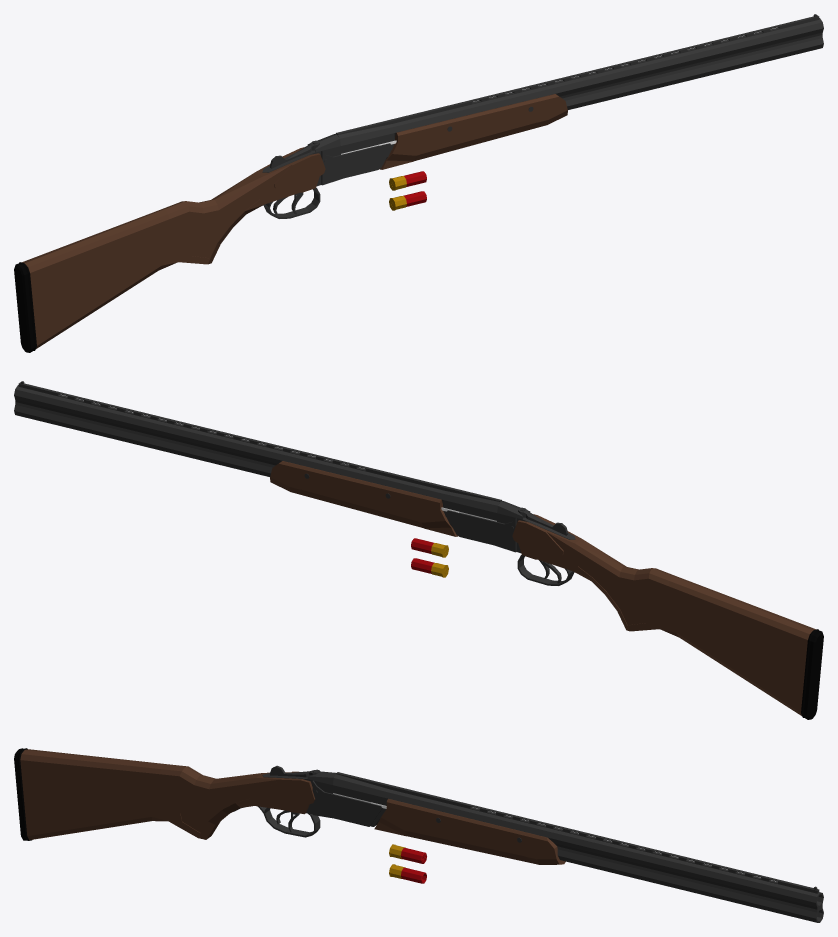
The model's file is toz-34.glb.
3 views of the same model, one above another, from view 1: azimuth 30°, elevation 25°; view 2: azimuth 150°, elevation 25°; view 3: azimuth 330°, elevation 25° (orthographic).
Parts seen in each view (by area): view 1: toz-34_5, toz34 barrels_2; view 2: toz-34_5, toz34 barrels_2; view 3: toz-34_5, toz34 barrels_2, 12/76_1.
Boxes of the visible parts, x1,y1,x2,y2 form: toz-34_5: (14, 134, 391, 352); toz34 barrels_2: (334, 14, 823, 169); toz-34_5: (446, 501, 823, 719); toz34 barrels_2: (14, 381, 503, 536); toz-34_5: (14, 748, 382, 840); toz34 barrels_2: (333, 772, 823, 922); 12/76_1: (389, 844, 426, 863).
Size of the model in its own units: 19.01 by 3.3 by 0.484.
